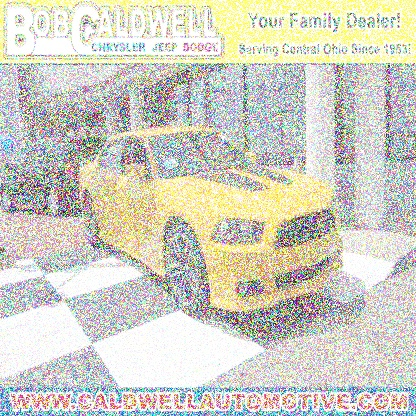Vehicle: (75, 122, 348, 318)
